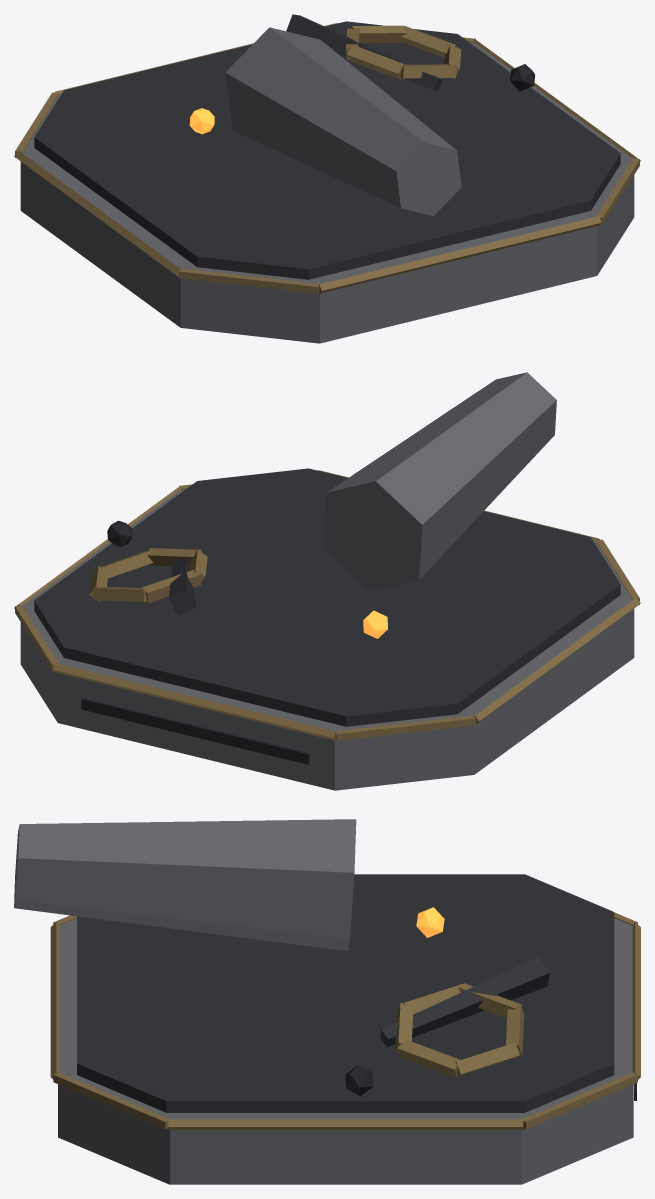
Rendered from Wreck_Aegis_ShieldProjector.fbx.
3 views of the same model, one above another, from view 1: azimuth 30°, elevation 25°; view 2: azimuth 150°, elevation 25°; view 3: azimuth 270°, elevation 25° (orthographic). The views are drawn at different scales.
Visible parts, largest first — view 1: Wreck_Aegis_ShieldProjector; view 2: Wreck_Aegis_ShieldProjector; view 3: Wreck_Aegis_ShieldProjector.
Boxes of the visible parts, <box> form: Wreck_Aegis_ShieldProjector: <box>14,14,640,343</box>; Wreck_Aegis_ShieldProjector: <box>14,372,640,790</box>; Wreck_Aegis_ShieldProjector: <box>14,819,640,1184</box>.
Size of the model in its own units: 1.85 by 0.7432 by 1.96.
